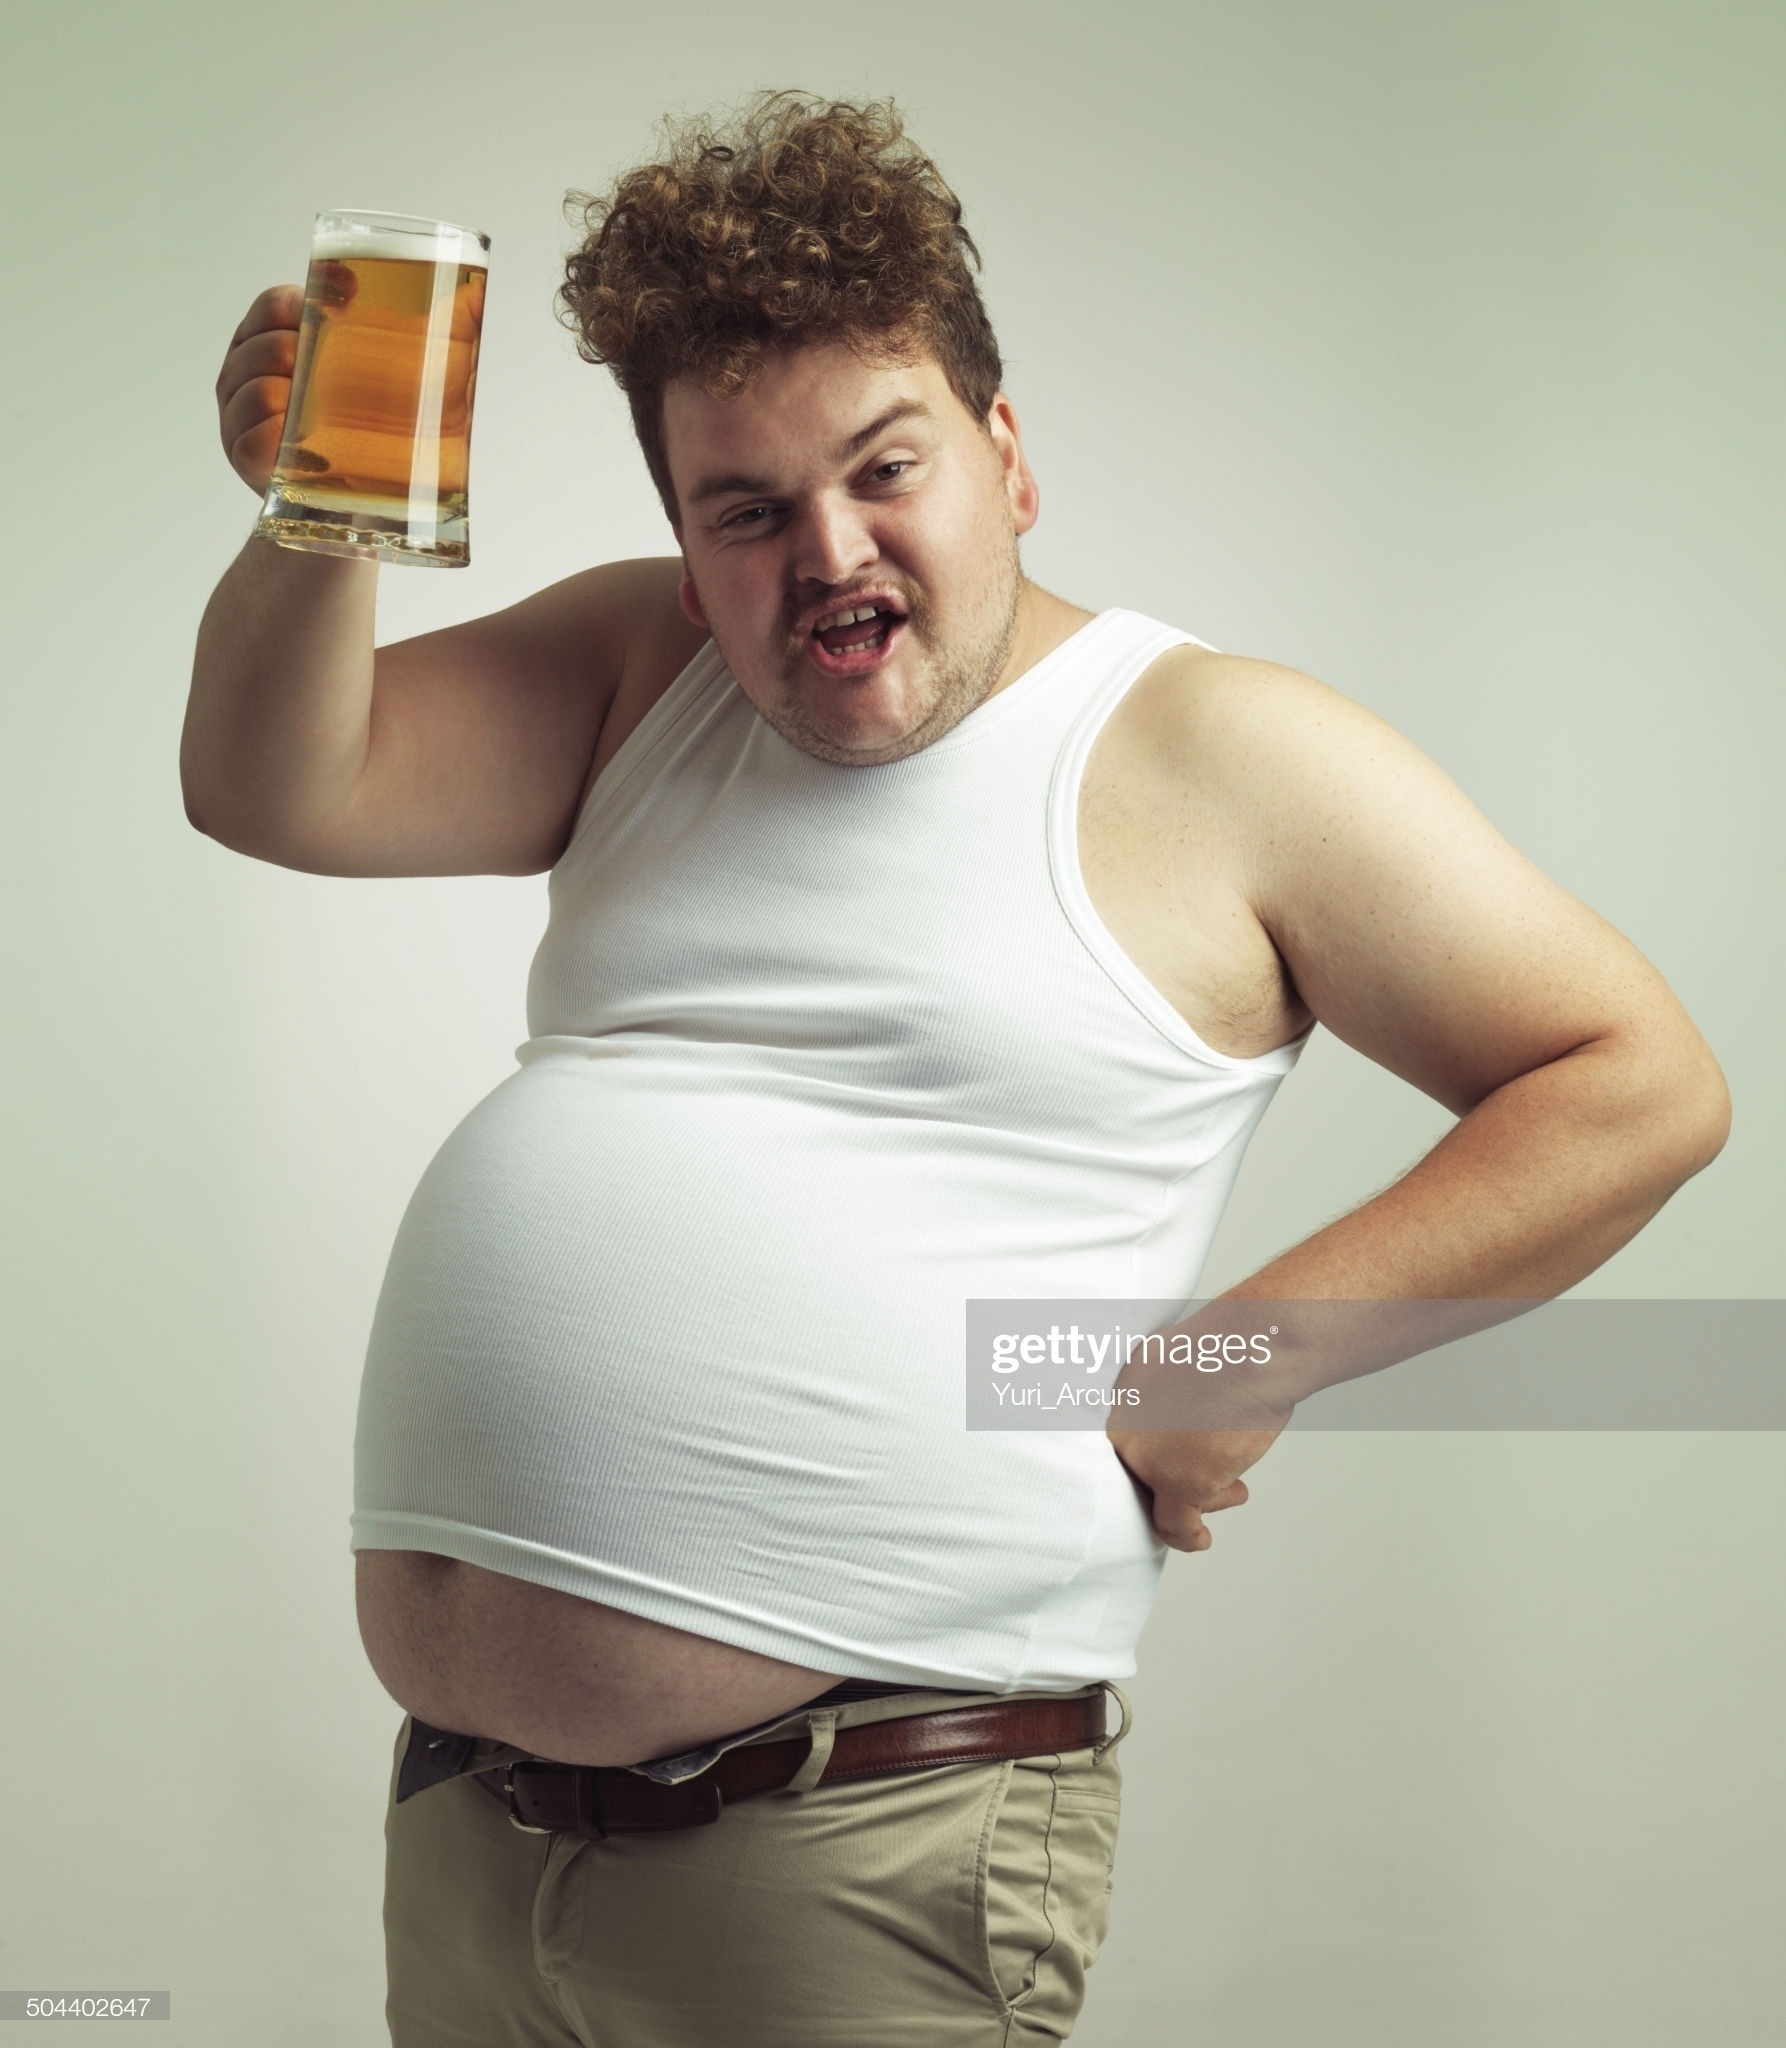whiskey: (235, 223, 501, 564)
